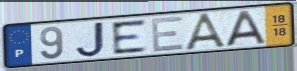9: (38, 25, 65, 61)
A: (183, 11, 231, 51), (224, 9, 268, 48)
E: (109, 18, 149, 57), (149, 15, 186, 54)
J: (73, 20, 107, 59)
